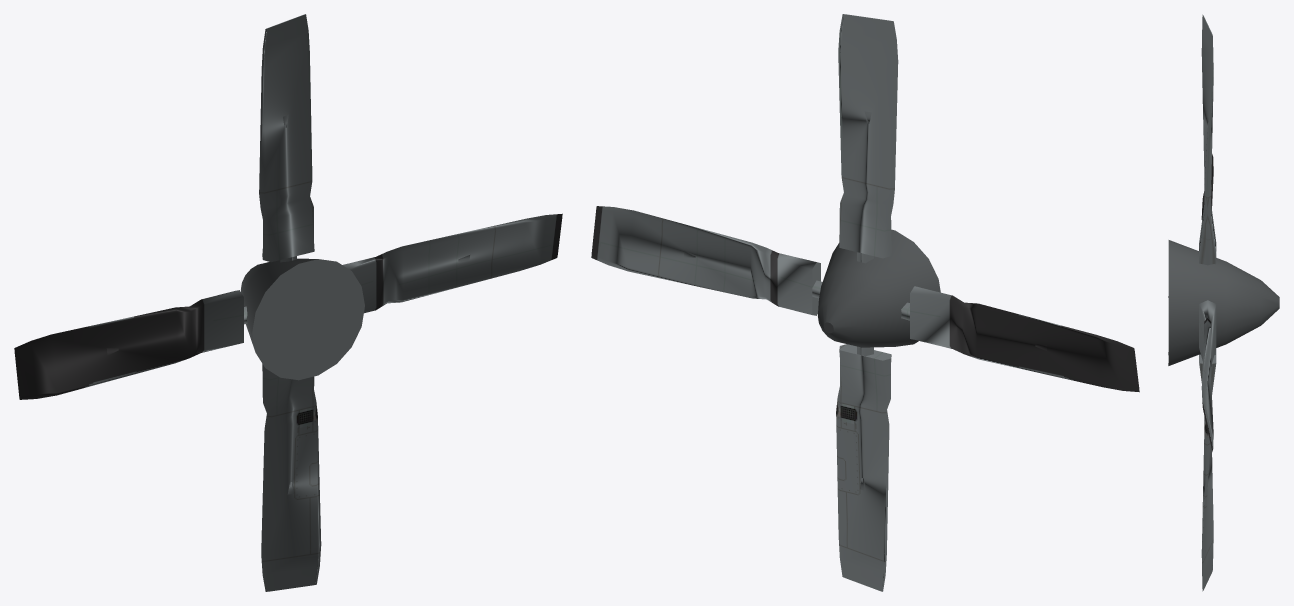
The model's file is tempproppelor.FBX.
The picture shows the model from 3 angles, left to right: view 1: azimuth 30°, elevation 25°; view 2: azimuth 150°, elevation 25°; view 3: azimuth 270°, elevation 25°; orthographic projection. The views are drawn at different scales.
Visible parts, largest first — view 1: part_43_LOD_100, part_42_LOD_100; view 2: part_43_LOD_100, part_42_LOD_100; view 3: part_42_LOD_100, part_43_LOD_100.
Part boxes in pixels (x1,y1,x2,y2): part_43_LOD_100: (14,14,562,591); part_42_LOD_100: (241,258,364,380); part_43_LOD_100: (591,14,1139,591); part_42_LOD_100: (818,229,940,347); part_42_LOD_100: (1168,240,1279,365); part_43_LOD_100: (1199,14,1216,591).
Bounding box in the file's own units: 166 × 166 × 30.08.
Materials: 2 (2 with a texture image).
